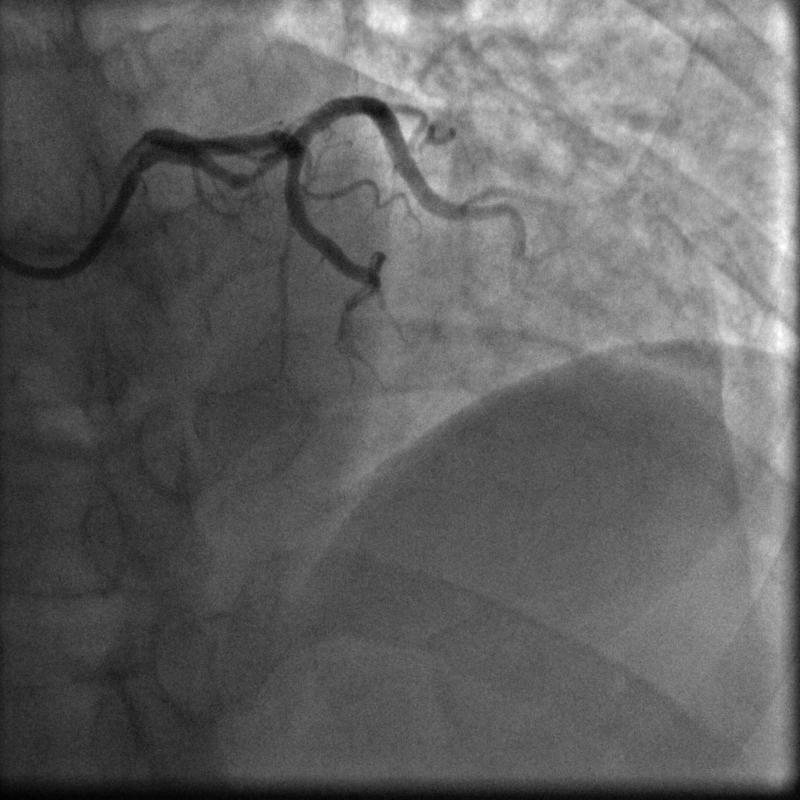Stenosis: (222, 161, 275, 192)
